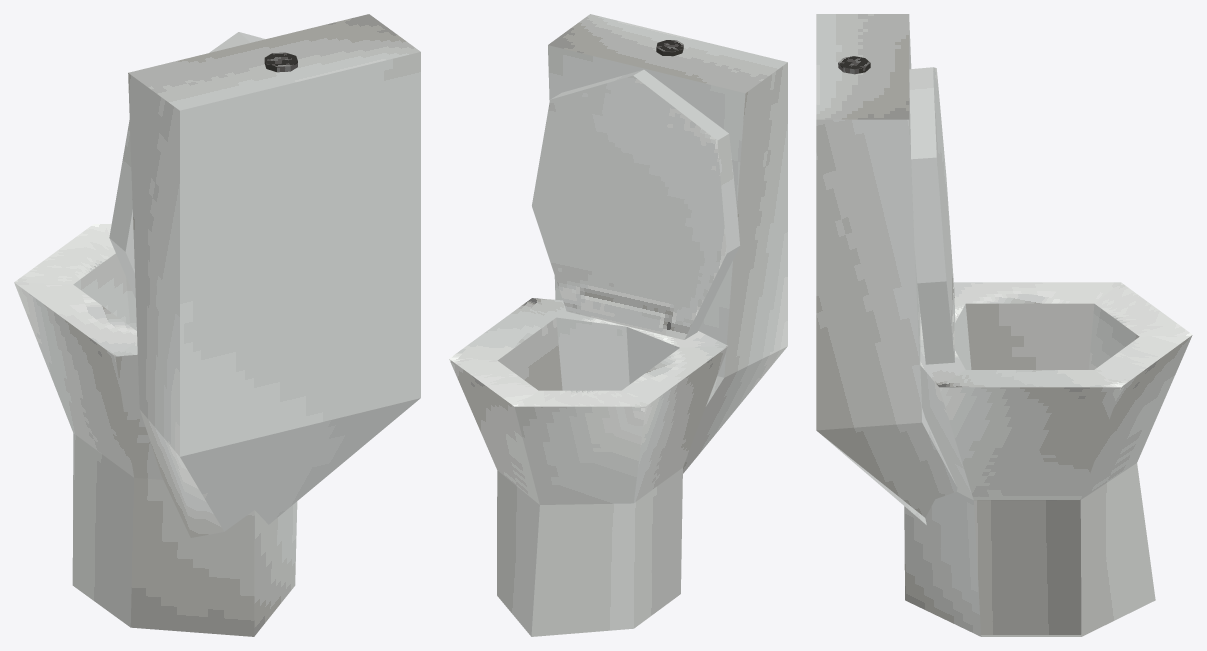
Rendered from psx_toilet.glb.
3 renders of one model, left to right at view 1: azimuth 30°, elevation 25°; view 2: azimuth 150°, elevation 25°; view 3: azimuth 270°, elevation 25°, orthographic. The views are drawn at different scales.
Parts seen in each view (by area): view 1: Circle; view 2: Circle; view 3: Circle.
Part boxes in pixels (x1,y1,x2,y2): Circle: (14, 14, 420, 636); Circle: (449, 14, 787, 636); Circle: (816, 14, 1192, 636).
Bounding box in the file's own units: 1.76 × 4.13 × 2.62.
1 material, 1 textured.
